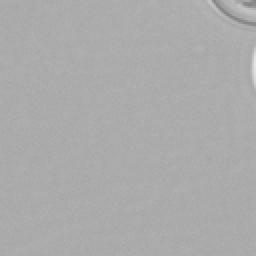picoshell: (206, 0, 254, 28)
